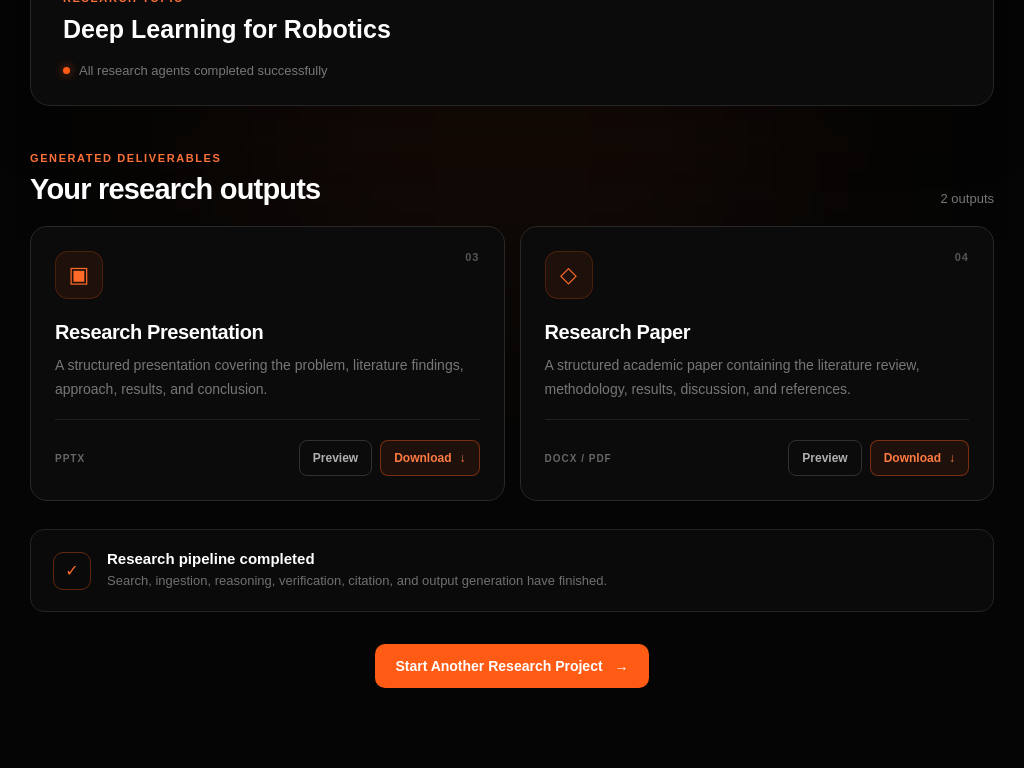
it: Outputs Component - Preview and Download Actions › Preview handles fetch/render failure with clear message and Download instead option
(page scrolled)
Click the button with aria-label "preview research paper": (825, 458) [788,440,862,476]
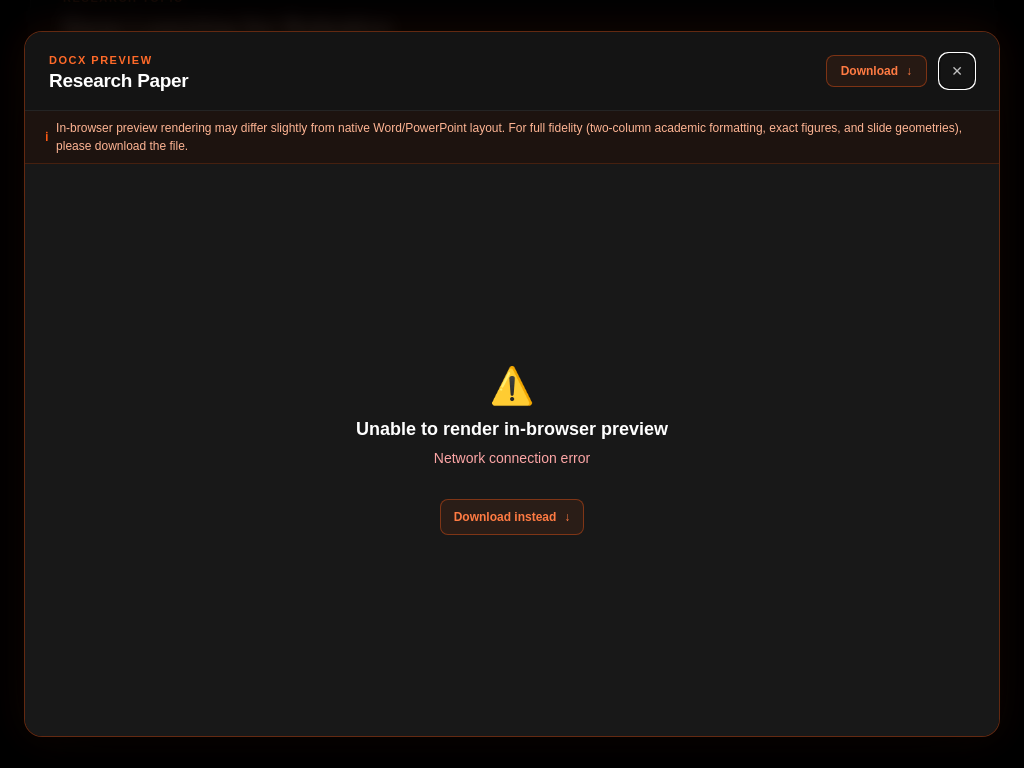
Now the dialog is shown
Now the heading "Unable to render in-browser preview" is shown, box [356,419,668,440]
Now the text "Network connection error" is shown, box [434,450,590,466]
